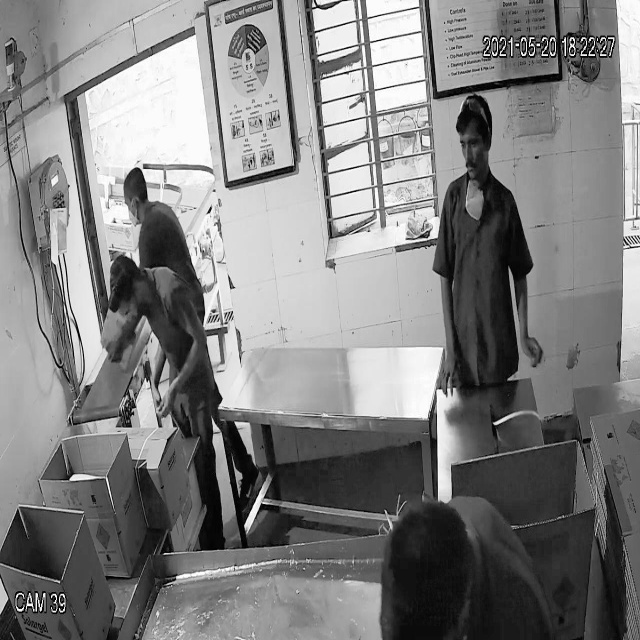Sin_gafas: (455, 126, 491, 158)
